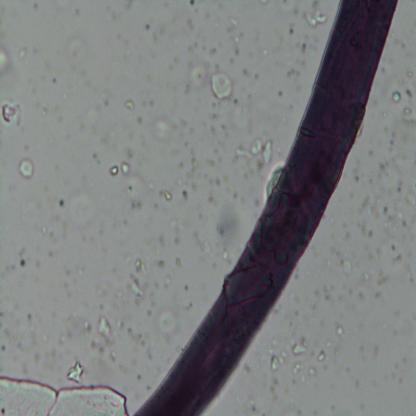Background material: (0, 375, 130, 416), (236, 136, 273, 167), (300, 0, 328, 26), (158, 305, 180, 337), (210, 73, 235, 100), (190, 58, 210, 88), (125, 174, 148, 200), (148, 118, 176, 139), (0, 99, 22, 125), (193, 233, 213, 258), (128, 274, 147, 300), (0, 47, 15, 79), (70, 36, 86, 63), (66, 361, 84, 384), (272, 349, 290, 371), (96, 314, 111, 338), (18, 156, 34, 178), (381, 204, 394, 230), (294, 336, 310, 355), (112, 288, 128, 306), (17, 248, 31, 268), (337, 256, 351, 276), (169, 215, 184, 232), (358, 196, 372, 214), (59, 326, 72, 344), (216, 220, 230, 236), (405, 263, 415, 285), (90, 152, 104, 167), (395, 211, 407, 228), (134, 260, 148, 274), (375, 270, 388, 285), (322, 283, 334, 299), (389, 88, 402, 102), (116, 212, 128, 227), (247, 394, 257, 412), (80, 320, 92, 335), (226, 18, 238, 32), (132, 334, 147, 345), (177, 119, 188, 134), (369, 206, 380, 221), (358, 272, 371, 284), (402, 116, 415, 128), (190, 156, 199, 172), (62, 312, 74, 324), (320, 256, 332, 268), (335, 320, 344, 336), (403, 193, 416, 204), (128, 200, 142, 210), (18, 46, 28, 60), (48, 231, 59, 243), (316, 349, 326, 362), (285, 69, 301, 77), (209, 124, 218, 138), (94, 283, 105, 294), (114, 319, 125, 330), (163, 190, 175, 200), (108, 164, 118, 176), (379, 160, 391, 170), (205, 156, 217, 166), (403, 105, 413, 117), (235, 30, 245, 42), (292, 362, 302, 374), (160, 234, 168, 248), (396, 178, 404, 192), (310, 32, 320, 43), (392, 253, 402, 264), (374, 246, 383, 258), (376, 188, 384, 201), (101, 292, 111, 302), (243, 68, 253, 78), (124, 100, 134, 110), (322, 340, 332, 350), (81, 78, 92, 87), (406, 67, 415, 78), (122, 162, 131, 173), (76, 265, 87, 274), (352, 167, 359, 181), (126, 146, 133, 160), (243, 361, 251, 373), (222, 249, 230, 261), (289, 18, 295, 34), (215, 140, 227, 148), (146, 349, 154, 361), (152, 260, 164, 268), (173, 292, 181, 304), (104, 280, 114, 289), (373, 289, 382, 299), (18, 342, 27, 352), (268, 385, 277, 395), (186, 19, 194, 30), (308, 368, 319, 376), (220, 124, 228, 135), (58, 198, 66, 209), (109, 351, 117, 362), (406, 87, 413, 99), (185, 82, 192, 94), (186, 302, 195, 311), (310, 247, 319, 256), (271, 338, 280, 347), (125, 0, 133, 10), (176, 175, 184, 185), (178, 160, 186, 170), (152, 31, 158, 44), (50, 348, 56, 361), (233, 44, 240, 55), (209, 111, 218, 119), (144, 384, 153, 392), (102, 243, 108, 255), (209, 47, 217, 56), (74, 7, 82, 16), (46, 248, 54, 257), (62, 219, 68, 231), (241, 170, 249, 179), (222, 174, 229, 184), (0, 308, 7, 318), (10, 262, 17, 272), (158, 24, 165, 34), (390, 370, 397, 380), (367, 228, 374, 238), (31, 335, 37, 346), (361, 223, 367, 234), (34, 353, 40, 364), (78, 122, 86, 130), (98, 346, 106, 354), (257, 162, 264, 171), (186, 44, 193, 53), (188, 127, 197, 134), (173, 236, 180, 245), (287, 319, 294, 328), (137, 52, 144, 61), (98, 226, 104, 236), (300, 60, 306, 70), (411, 215, 416, 227), (301, 43, 307, 53), (368, 147, 374, 157), (374, 346, 379, 358), (112, 265, 118, 275), (333, 346, 339, 356), (53, 105, 61, 112), (296, 408, 303, 416), (360, 354, 368, 361), (341, 282, 348, 290), (183, 190, 188, 201), (125, 254, 130, 265), (247, 91, 253, 100), (192, 182, 198, 191), (212, 102, 221, 108), (348, 287, 354, 296), (28, 312, 33, 322), (43, 333, 48, 343), (214, 179, 221, 186), (172, 56, 179, 63), (136, 116, 143, 123), (232, 192, 238, 200), (261, 0, 269, 6), (153, 202, 159, 210), (35, 260, 41, 268), (277, 90, 283, 98), (368, 252, 374, 260), (103, 100, 109, 108), (216, 155, 222, 163), (185, 171, 191, 179), (62, 282, 68, 290), (384, 124, 390, 132), (344, 302, 350, 310), (340, 220, 346, 228), (389, 138, 395, 146), (397, 376, 403, 384), (175, 258, 181, 266), (166, 274, 172, 282), (310, 302, 318, 308), (208, 195, 214, 203), (402, 356, 408, 364), (72, 355, 78, 363), (294, 7, 299, 16), (338, 293, 343, 302), (356, 379, 361, 388), (43, 106, 48, 115), (394, 361, 399, 370), (6, 326, 10, 337), (254, 73, 260, 80), (163, 283, 169, 290), (36, 202, 42, 209), (313, 289, 319, 296), (32, 2, 39, 8), (383, 111, 389, 118), (80, 236, 87, 242), (358, 292, 364, 299), (90, 342, 96, 349), (271, 395, 278, 401), (43, 226, 48, 234), (127, 326, 132, 334), (145, 22, 150, 30), (391, 243, 396, 251), (83, 302, 88, 310), (66, 290, 71, 298), (104, 337, 109, 345), (301, 374, 306, 382), (142, 100, 147, 108), (124, 367, 129, 375), (368, 178, 374, 184), (117, 365, 123, 371), (192, 42, 198, 48), (210, 262, 216, 268), (254, 201, 260, 207), (293, 310, 299, 316), (0, 345, 6, 351), (47, 196, 52, 203), (134, 393, 139, 400), (233, 97, 238, 104), (149, 292, 154, 299), (296, 294, 300, 302), (6, 264, 10, 272), (209, 179, 214, 185), (273, 379, 279, 384), (123, 56, 128, 62), (190, 0, 195, 6), (215, 63, 220, 69), (209, 189, 214, 195), (213, 148, 218, 154), (346, 367, 352, 372), (52, 78, 57, 84), (99, 304, 104, 310), (291, 379, 297, 384), (136, 374, 141, 380), (151, 302, 156, 308), (214, 202, 219, 208), (96, 105, 101, 111), (206, 12, 210, 19), (150, 99, 154, 106), (402, 42, 406, 49), (346, 232, 350, 239), (184, 284, 188, 291), (58, 365, 63, 370), (24, 368, 28, 374), (6, 297, 10, 303), (66, 270, 70, 276), (0, 364, 3, 372), (357, 262, 361, 268), (384, 172, 390, 176), (59, 115, 63, 121), (240, 197, 244, 203), (136, 298, 140, 304), (191, 148, 194, 155), (332, 403, 335, 410), (230, 57, 234, 62), (332, 247, 336, 252), (148, 310, 151, 316), (392, 132, 396, 136), (283, 0, 288, 3), (353, 306, 356, 311)
Microfibre: (135, 0, 398, 416)
